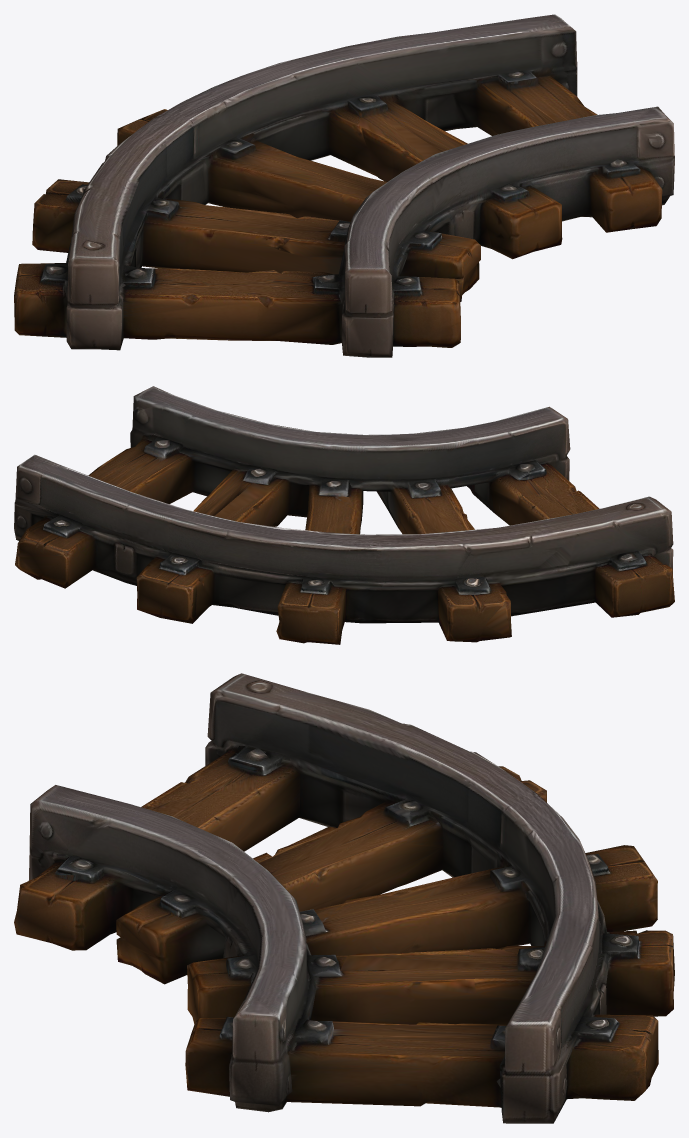
The model's file is via_ferrea_curva.glb.
The picture shows the model from 3 angles, top to bottom: view 1: azimuth 30°, elevation 25°; view 2: azimuth 150°, elevation 25°; view 3: azimuth 270°, elevation 25°; orthographic projection. The views are drawn at different scales.
Visible parts, largest first — view 1: via_ferrea_curva; view 2: via_ferrea_curva; view 3: via_ferrea_curva.
Part boxes in pixels (<box>): via_ferrea_curva: <box>14,14,674,357</box>; via_ferrea_curva: <box>14,386,674,644</box>; via_ferrea_curva: <box>14,673,674,1123</box>.
Size of what is drawn, in the model's own units: 4 by 0.5323 by 3.02.
Materials: 1 (1 with a texture image).
